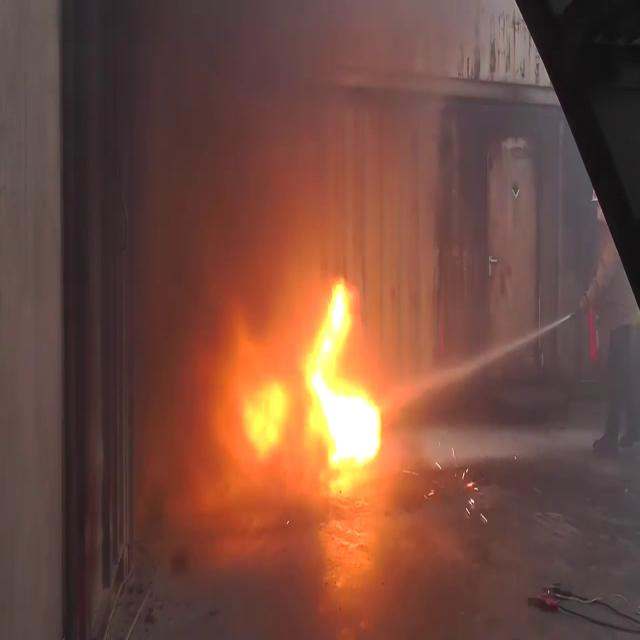Fire: (247, 270, 393, 492)
Smoke: (107, 0, 432, 316)
